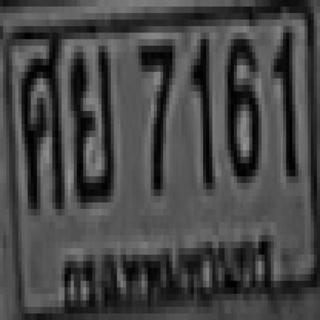A34: (68, 42, 111, 199)
A38: (18, 33, 62, 209)
N01: (271, 23, 292, 173), (188, 33, 209, 183)
N06: (225, 33, 258, 176)
N07: (135, 39, 172, 189)
